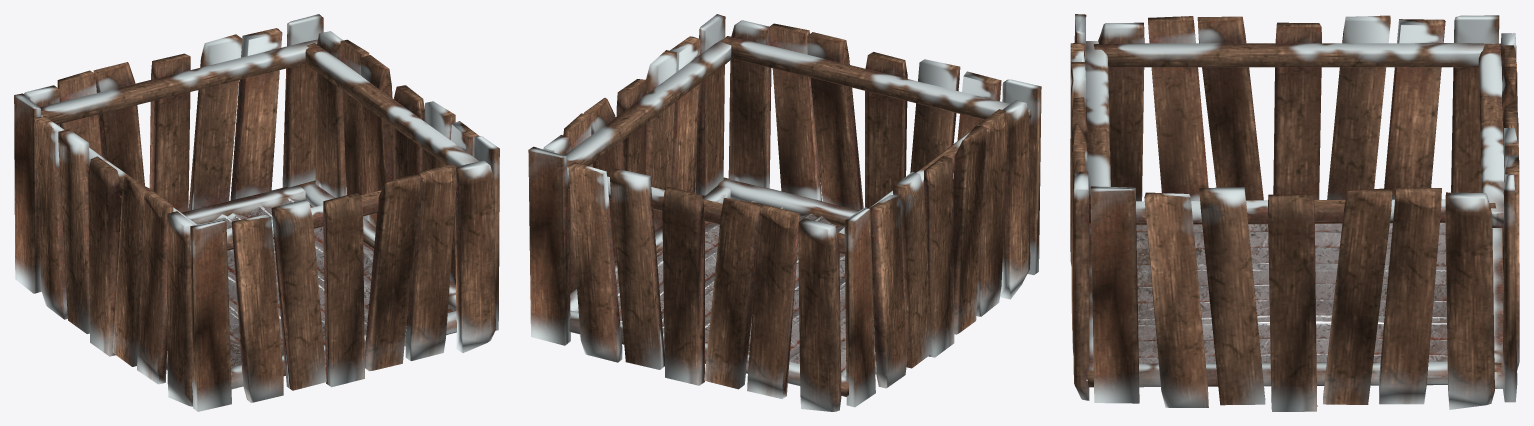
The model's file is KindledSpirits-Snowbox.fbx.
3 renders of one model, left to right at view 1: azimuth 30°, elevation 25°; view 2: azimuth 150°, elevation 25°; view 3: azimuth 270°, elevation 25°, orthographic. The views are drawn at different scales.
Parts seen in each view (by area): view 1: SnowBox-LOD0; view 2: SnowBox-LOD0; view 3: SnowBox-LOD0.
Part boxes in pixels (x1,y1,x2,y2): SnowBox-LOD0: (14,14,499,411); SnowBox-LOD0: (528,14,1041,411); SnowBox-LOD0: (1070,14,1519,411).
Size of what is drawn, in the model's own units: 128 by 73.31 by 135.
